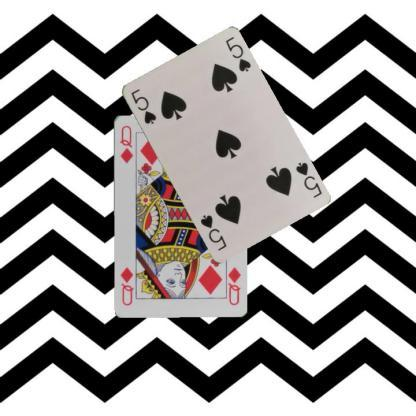5s: (292, 159, 323, 199), (128, 86, 158, 125)
Qd: (222, 262, 242, 306), (117, 122, 134, 164)
